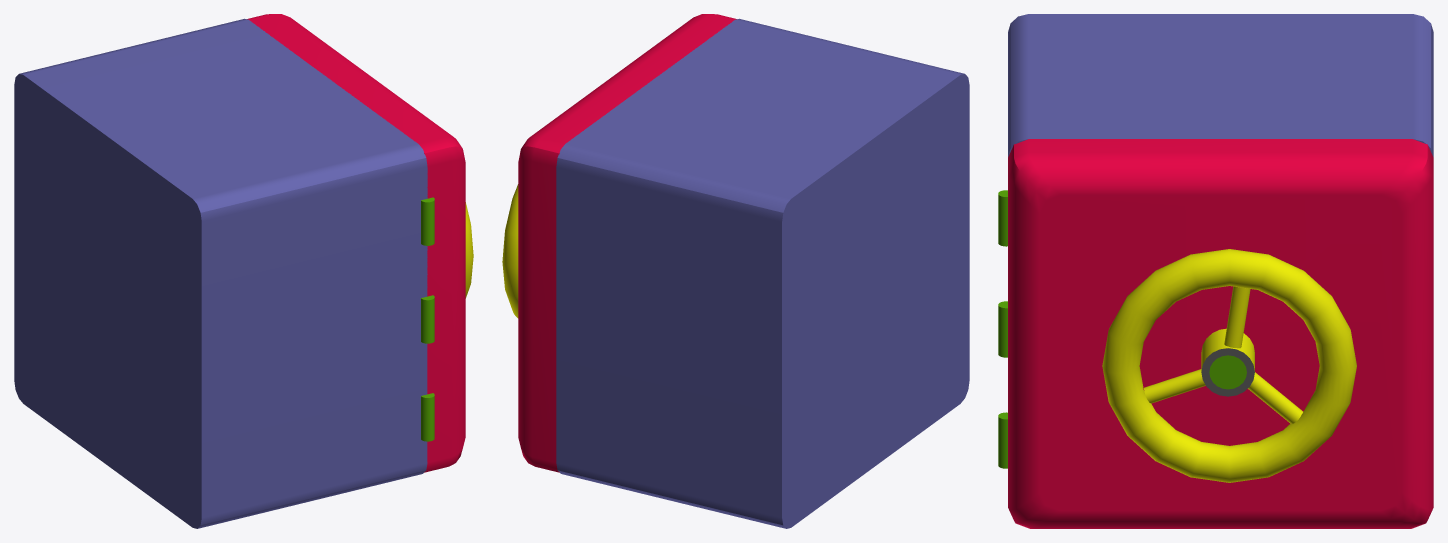
Rendered from locker.fbx.
3 renders of one model, left to right at view 1: azimuth 30°, elevation 25°; view 2: azimuth 150°, elevation 25°; view 3: azimuth 270°, elevation 25°, orthographic. The views are drawn at different scales.
Parts seen in each view (by area): view 1: pCube22, pCube23, pCylinder14, pCylinder15, pCylinder16, pCylinder21; view 2: pCube22, pCube23, pCylinder21; view 3: pCube23, pCube22, pCylinder21, pCylinder14, pCylinder15, pCylinder16.
Part boxes in pixels (x1,y1,x2,y2): pCube22: (14,18,427,528); pCube23: (247,14,465,472); pCylinder14: (421,197,434,245); pCylinder15: (421,295,434,343); pCylinder16: (421,393,434,441); pCylinder21: (465,202,473,298); pCube22: (556,18,969,528); pCube23: (518,14,736,472); pCylinder21: (502,184,518,318); pCube23: (1008,139,1433,528); pCube22: (1008,14,1433,156); pCylinder21: (1102,249,1356,482); pCylinder14: (998,190,1007,246); pCylinder15: (998,301,1007,357); pCylinder16: (998,412,1007,468).
Bounding box in the file's own units: 6.38 × 6.28 × 6.63.
